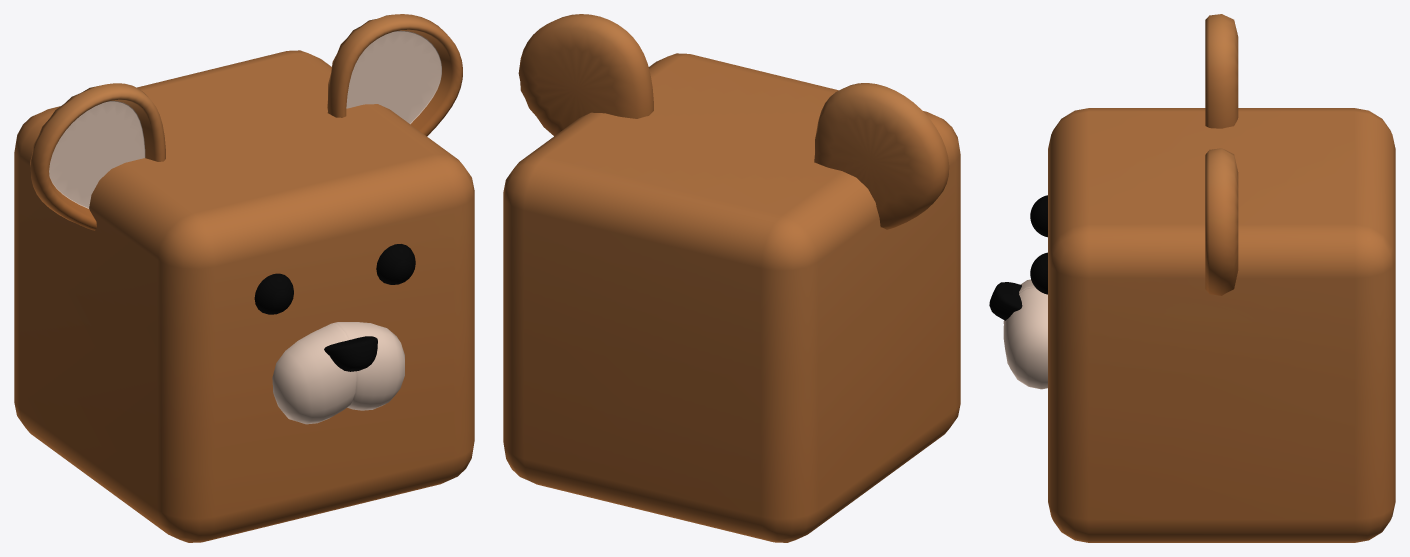
Rendered from Bear.fbx.
3 renders of one model, left to right at view 1: azimuth 30°, elevation 25°; view 2: azimuth 150°, elevation 25°; view 3: azimuth 270°, elevation 25°, orthographic. The views are drawn at different scales.
Parts seen in each view (by area): view 1: Bear; view 2: Bear; view 3: Bear.
Boxes of the visible parts, x1,y1,x2,y2 form: Bear: (14, 14, 474, 542); Bear: (503, 14, 960, 542); Bear: (989, 14, 1395, 542).
Bounding box in the file's own units: 1.37 × 1.25 × 1.17.
